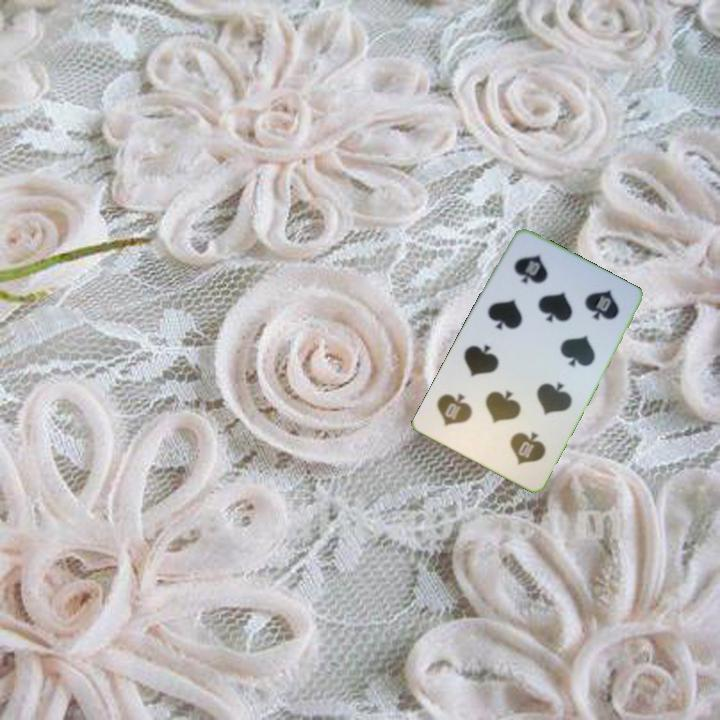s_10.png: (495, 237, 579, 318), (477, 401, 561, 482)
